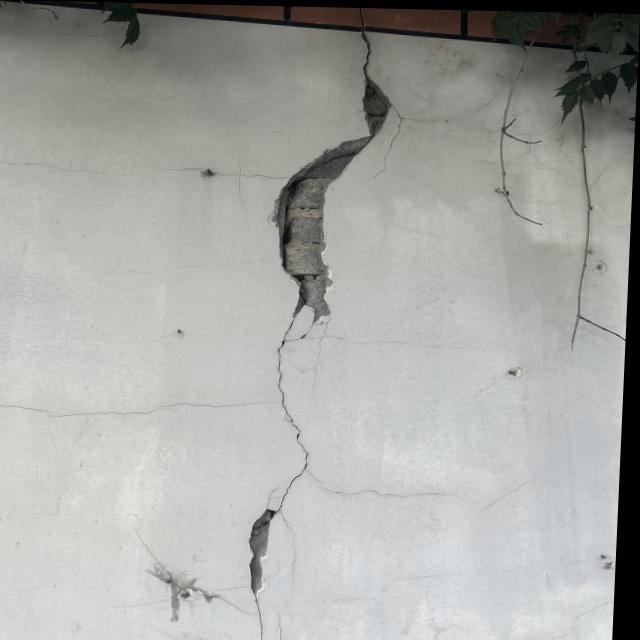crack: (259, 310, 324, 506), (0, 385, 264, 433)
spalling: (273, 140, 366, 315), (251, 511, 280, 591), (367, 69, 393, 126)
